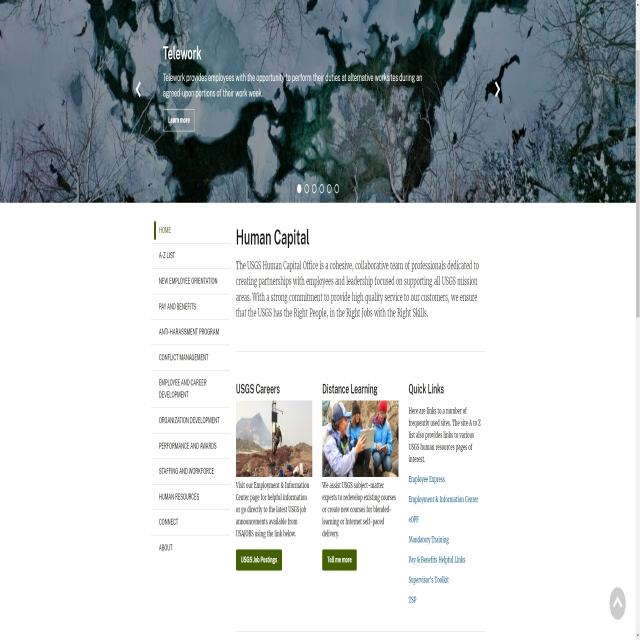menu-panel: (150, 241, 224, 560)
